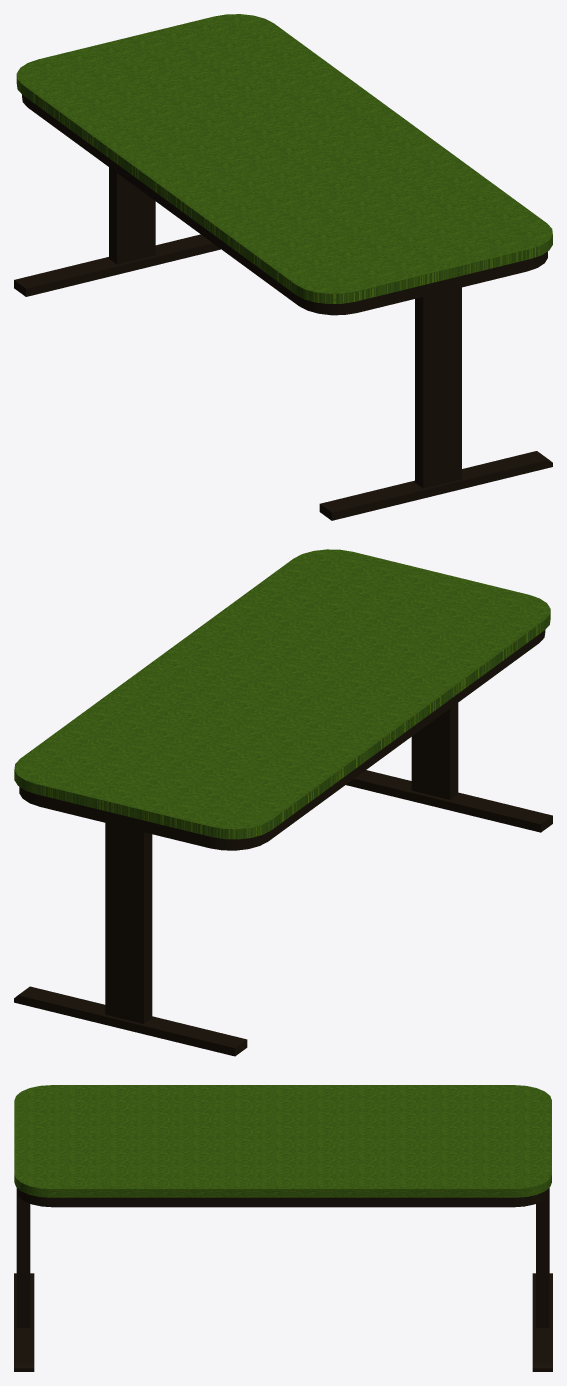
The model's file is desk.fbx.
3 renders of one model, top to bottom at view 1: azimuth 30°, elevation 25°; view 2: azimuth 150°, elevation 25°; view 3: azimuth 270°, elevation 25°, orthographic. The views are drawn at different scales.
Parts seen in each view (by area): view 1: pCube36; view 2: pCube36; view 3: pCube36.
Part boxes in pixels (left/top/right/bottom): pCube36: left=14, top=14, right=552, bottom=520; pCube36: left=14, top=549, right=552, bottom=1056; pCube36: left=14, top=1085, right=552, bottom=1371.
Size of the model in its own units: 2769 by 2352 by 6063.
2 materials, 1 textured.
